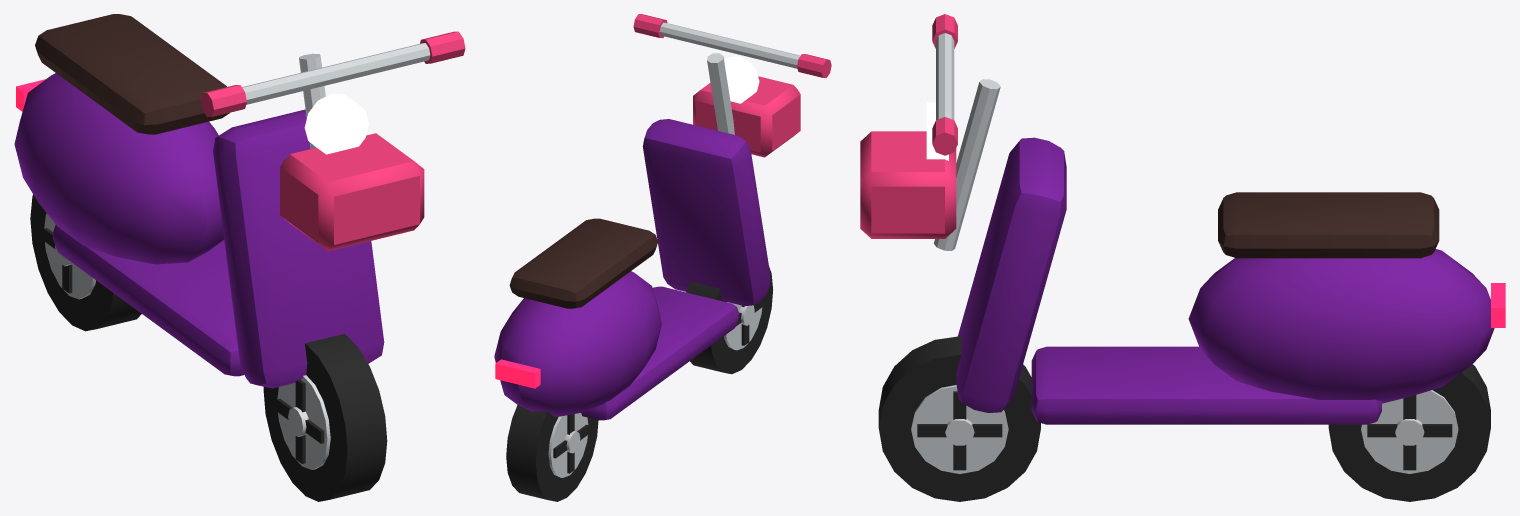
The model's file is heist_moped.glb.
3 views of the same model, side by side, from view 1: azimuth 30°, elevation 25°; view 2: azimuth 150°, elevation 25°; view 3: azimuth 270°, elevation 25° (orthographic). The views are drawn at different scales.
Visible parts, largest first — view 1: HeistMoped_body, Wheel_F, Wheel_R; view 2: HeistMoped_body, Wheel_R, Wheel_F; view 3: HeistMoped_body, Wheel_F, Wheel_R.
Part boxes in pixels (x1=…): HeistMoped_body: x1=14, y1=14, x2=465, y2=388; Wheel_F: x1=263, y1=334, x2=387, y2=501; Wheel_R: x1=30, y1=194, x2=141, y2=331; HeistMoped_body: x1=494, y1=14, x2=831, y2=420; Wheel_R: x1=506, y1=404, x2=598, y2=501; Wheel_F: x1=686, y1=266, x2=772, y2=374; HeistMoped_body: x1=860, y1=14, x2=1505, y2=424; Wheel_F: x1=878, y1=336, x2=1040, y2=501; Wheel_R: x1=1328, y1=364, x2=1490, y2=501.
Size of the model in its own units: 0.76 by 1.25 by 1.75.
